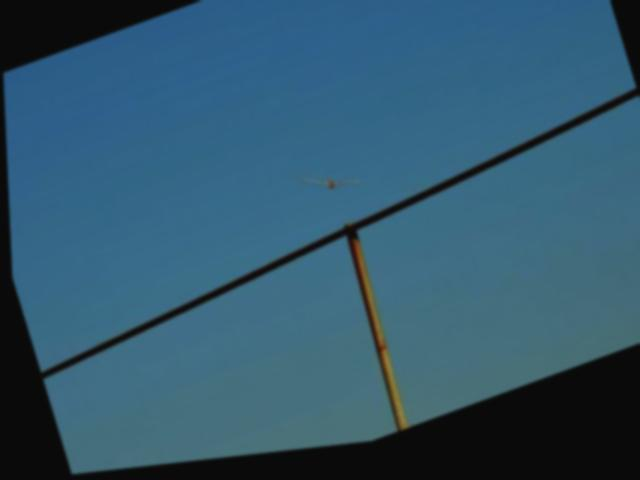iha: (298, 166, 361, 211)
